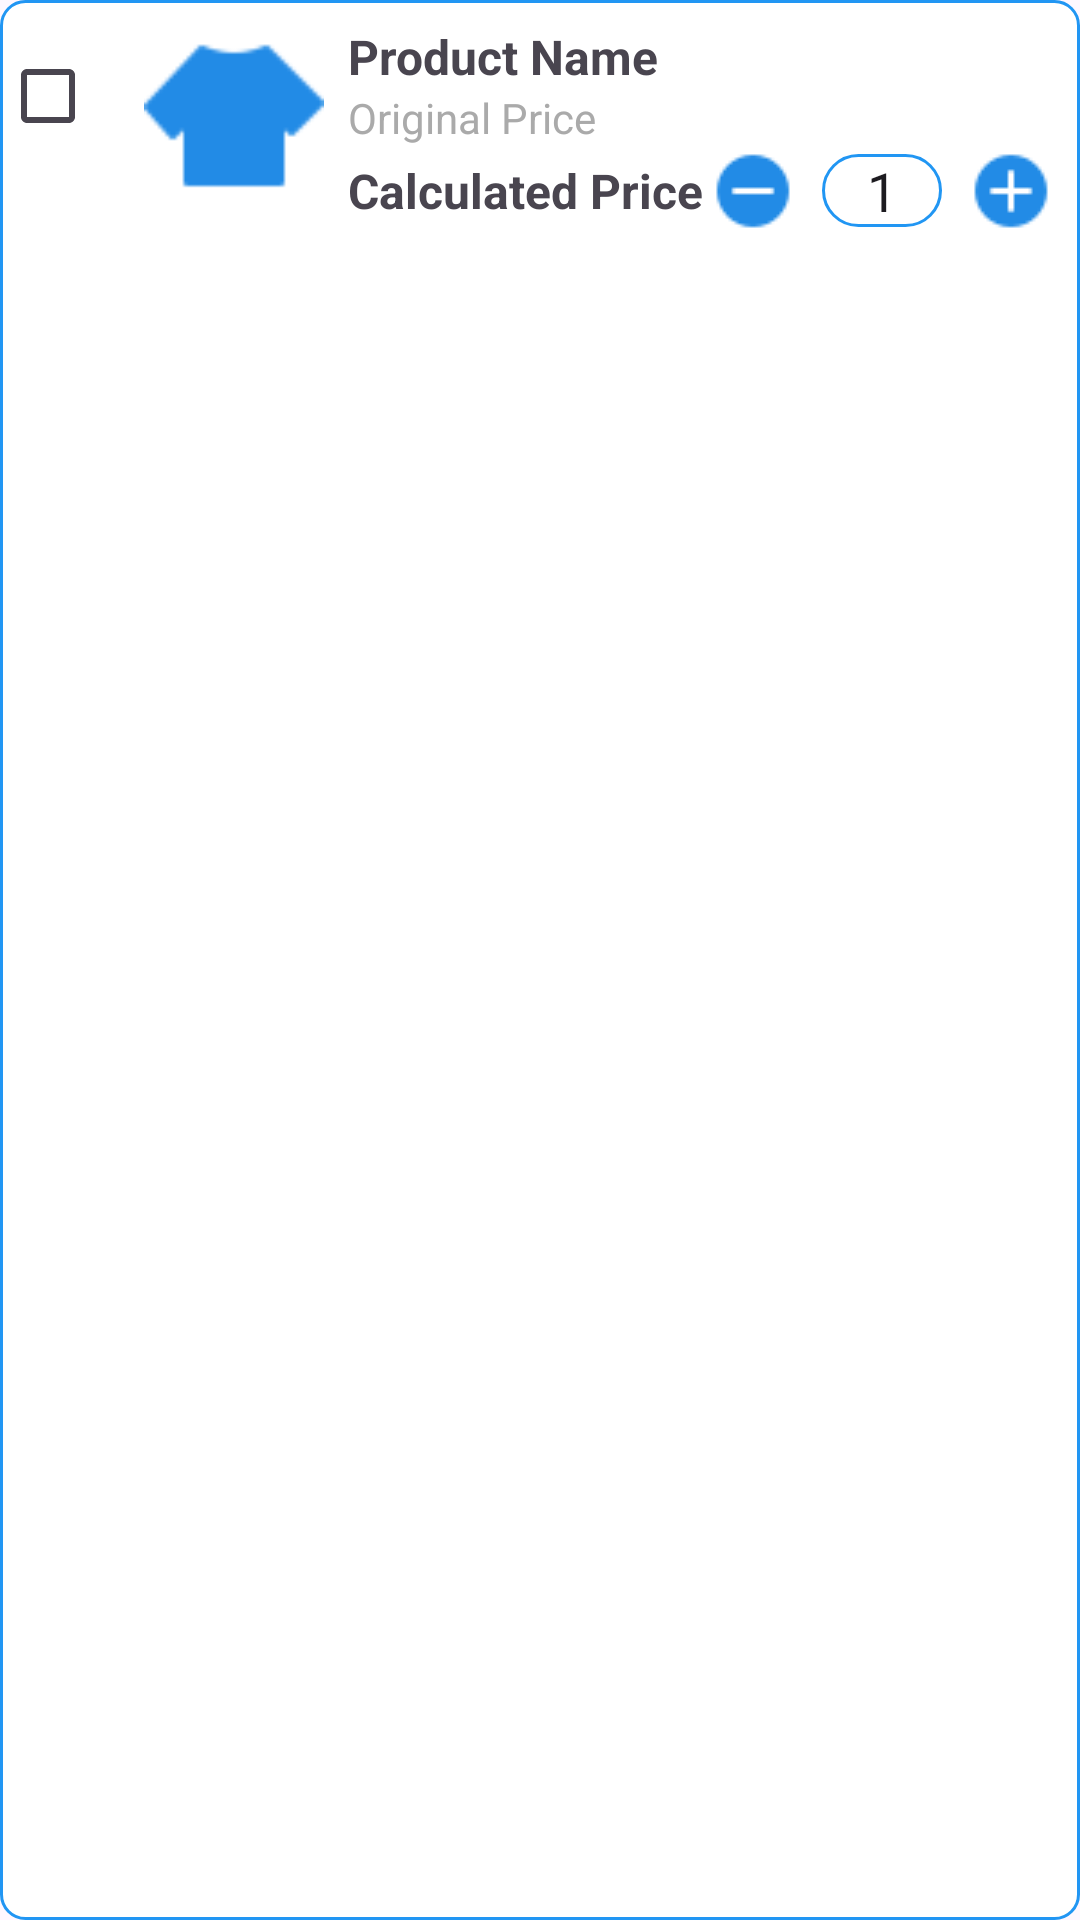

Icons on this 1080×1920 Android screen, each with the point to tap as (x=x, y=y):
minus: (x=753, y=191)
plus: (x=1011, y=191)
